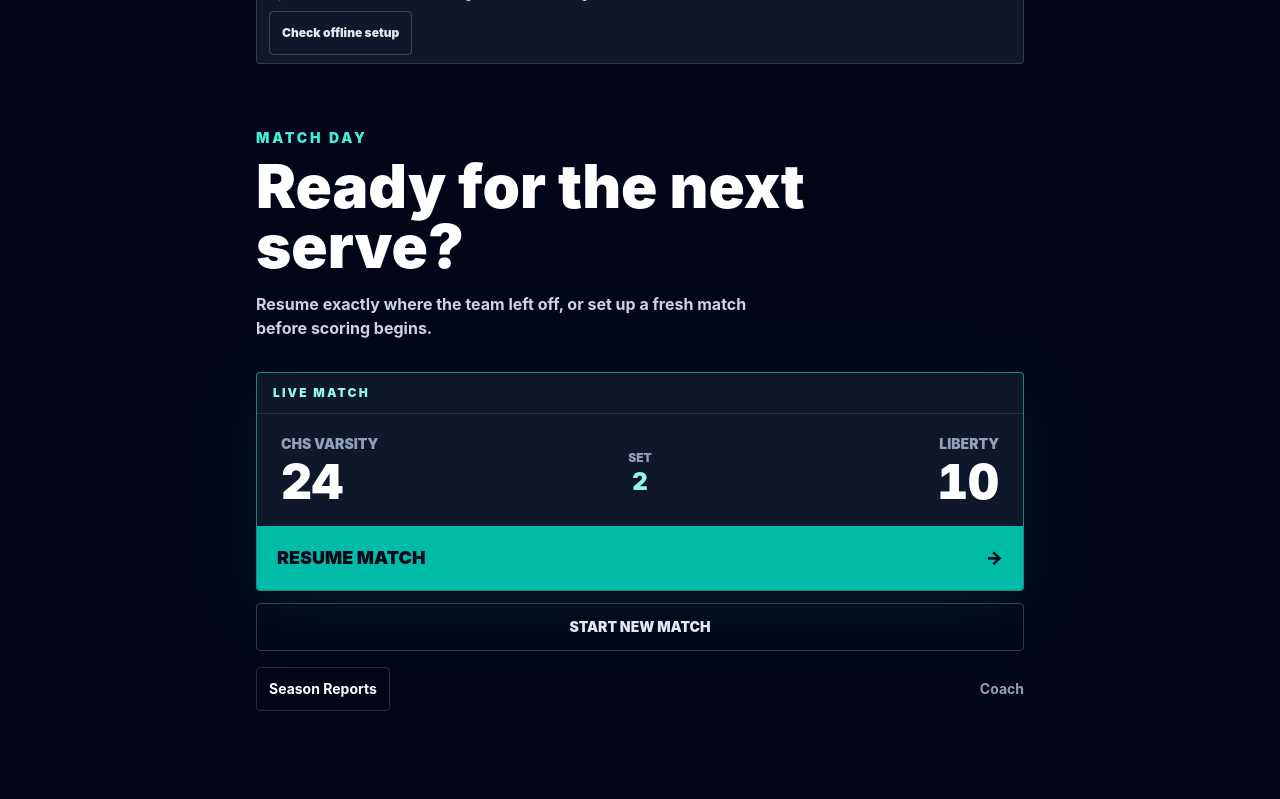
Test case: CourtsideMatchbook match launch flow › finishes a decided best-of match once and returns to the launcher
(page scrolled)
Click the button "Resume Match →" at (351, 558), box [257,526,1023,590]
(page scrolled)
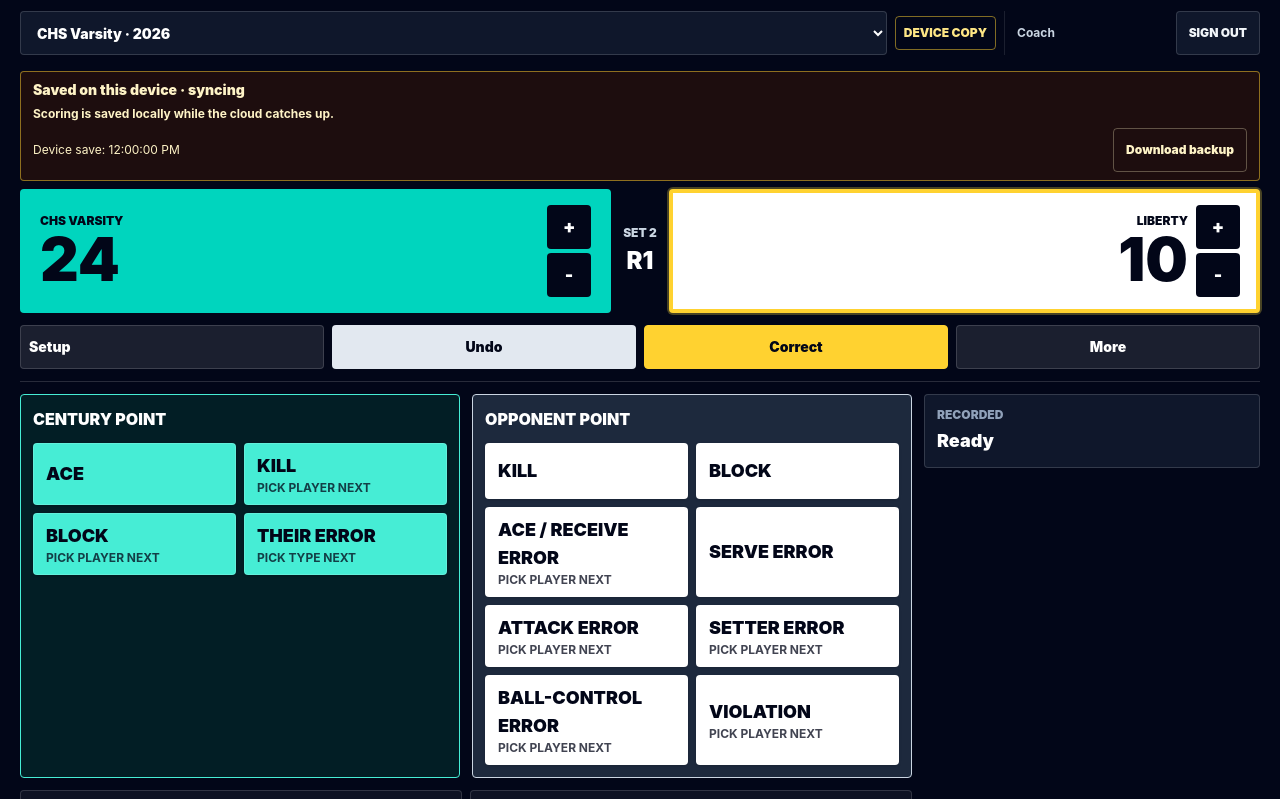
Click the button named "Add CHS Varsity score" at (569, 226), box [547,204,591,248]
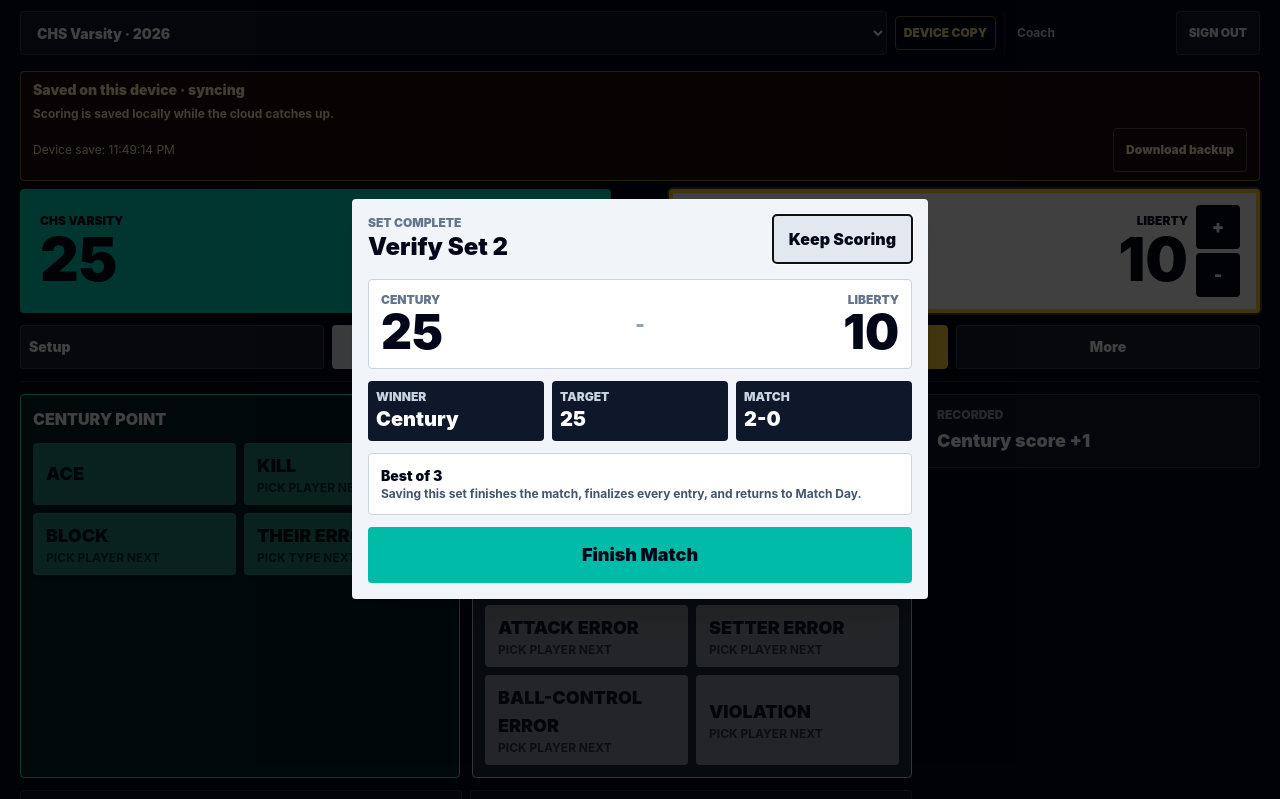
Now the text "Saving this set finishes the match, finalizes every entry, and returns to Match Day." is shown, box [381,486,862,501]
Click the button "Finish Match" at (640, 555), box [368,527,912,583]
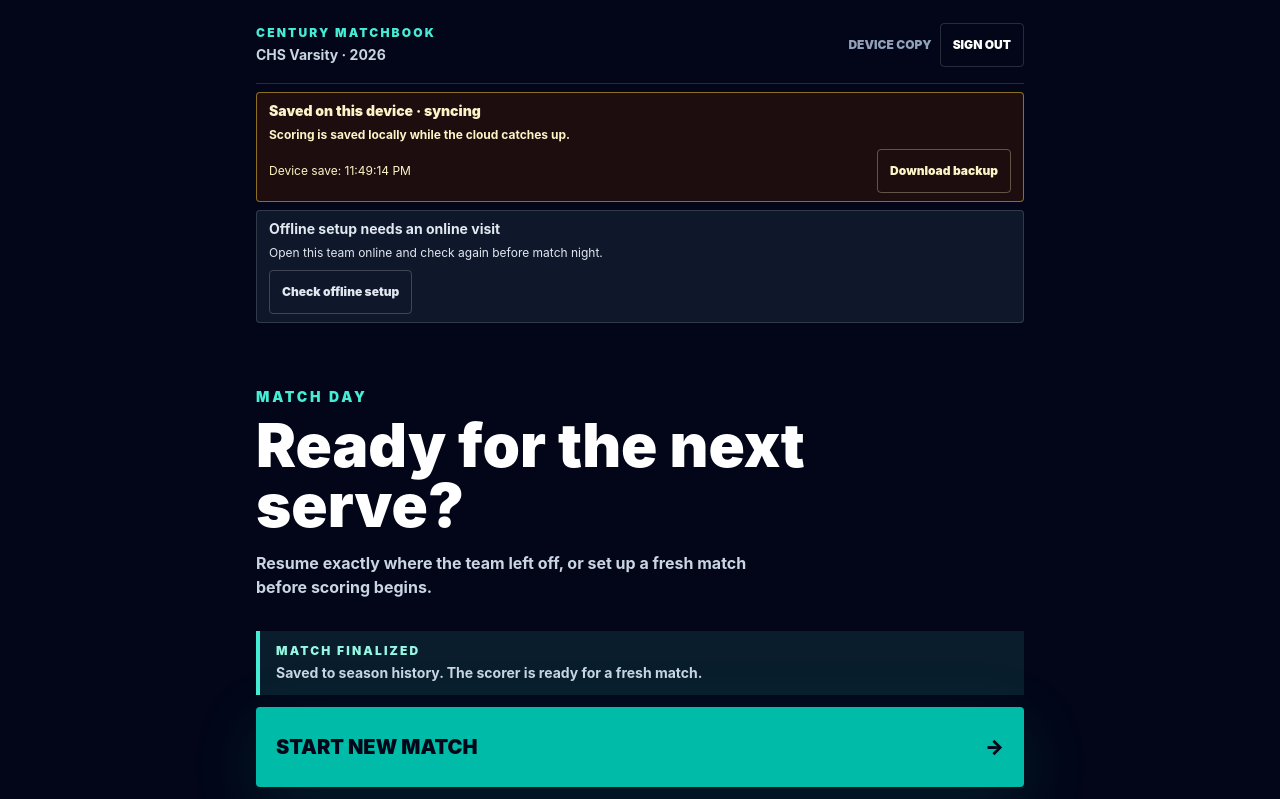
Now the heading "Ready for the next serve?" is shown, box [256,415,832,535]
Now the text "Match finalized" is shown, box [276,643,420,658]
